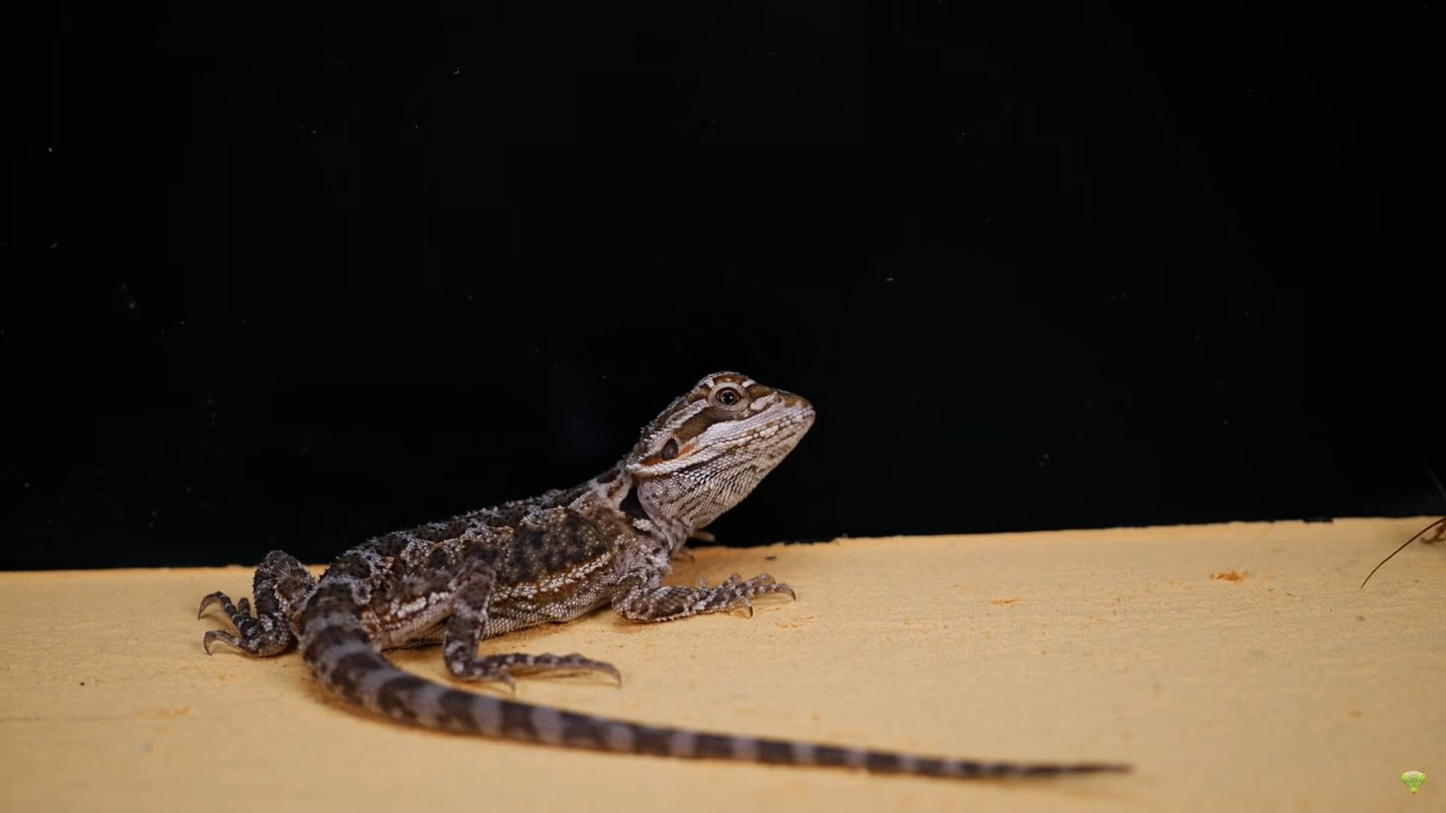lizard: (182, 352, 1133, 777)
